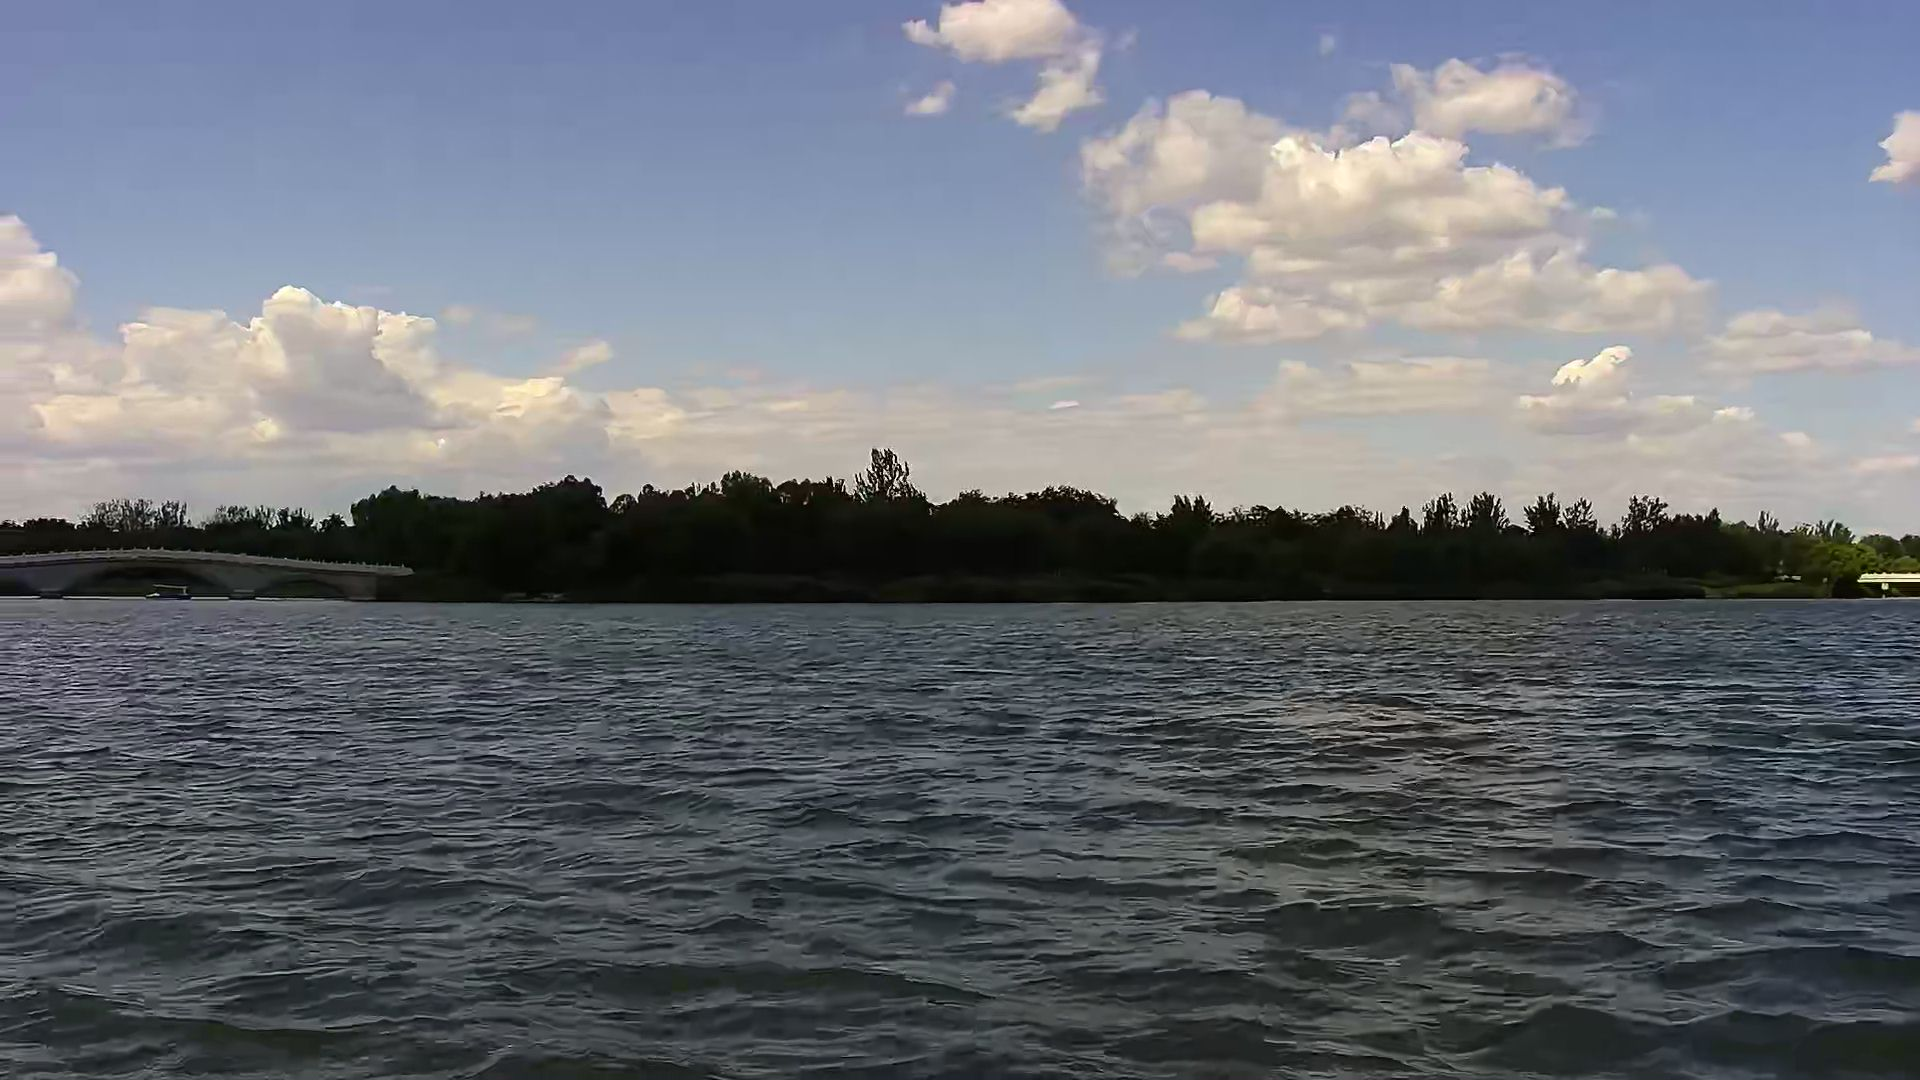boat: (141, 582, 199, 607)
bridge: (1, 549, 411, 603), (1851, 571, 1920, 601)
